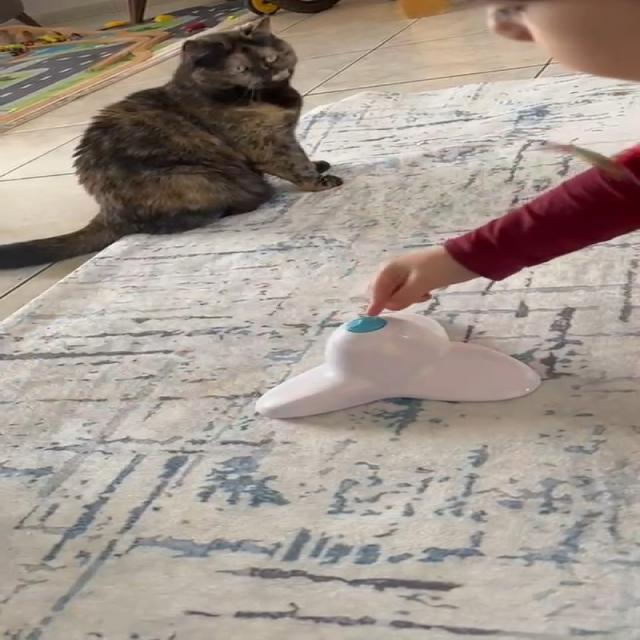authorized: (0, 14, 343, 270)
